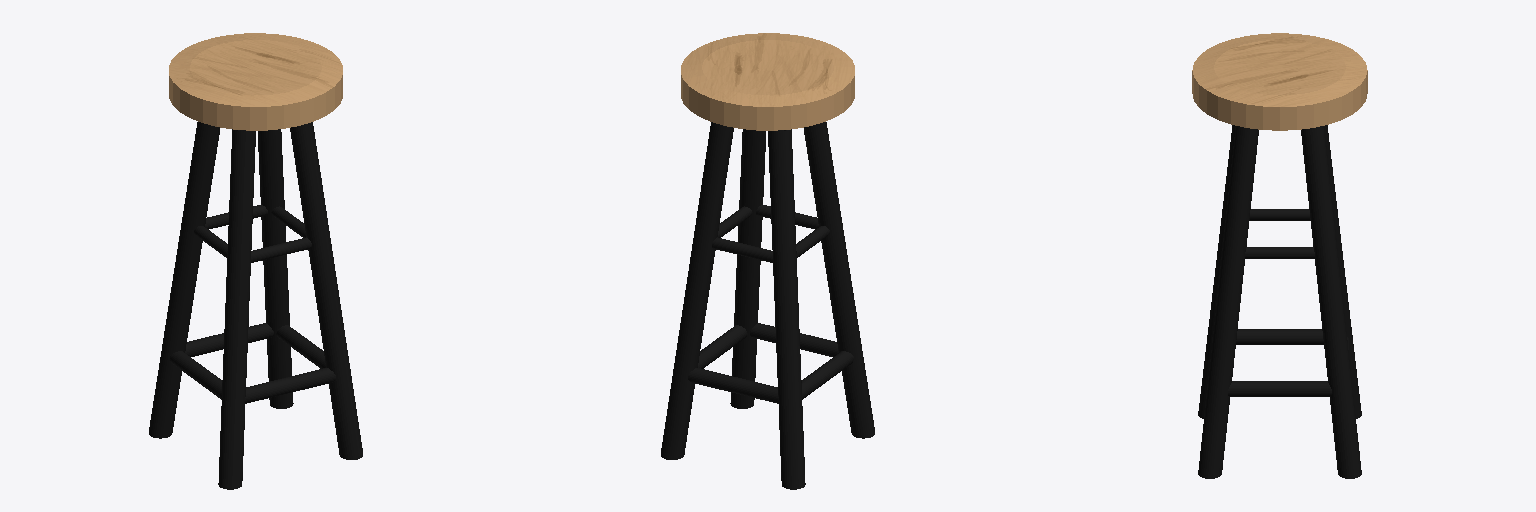
3 renders of one model, left to right at view 1: azimuth 30°, elevation 25°; view 2: azimuth 150°, elevation 25°; view 3: azimuth 270°, elevation 25°, orthographic.
Parts seen in each view (by area): view 1: Cylinder_Cylinder.001; view 2: Cylinder_Cylinder.001; view 3: Cylinder_Cylinder.001.
Boxes of the visible parts, x1,y1,x2,y2 form: Cylinder_Cylinder.001: [149, 33, 362, 489]; Cylinder_Cylinder.001: [661, 33, 874, 489]; Cylinder_Cylinder.001: [1192, 33, 1367, 478].
Bounding box in the file's own units: 1.18 × 2.8 × 1.18.
Materials: 1 (1 with a texture image).